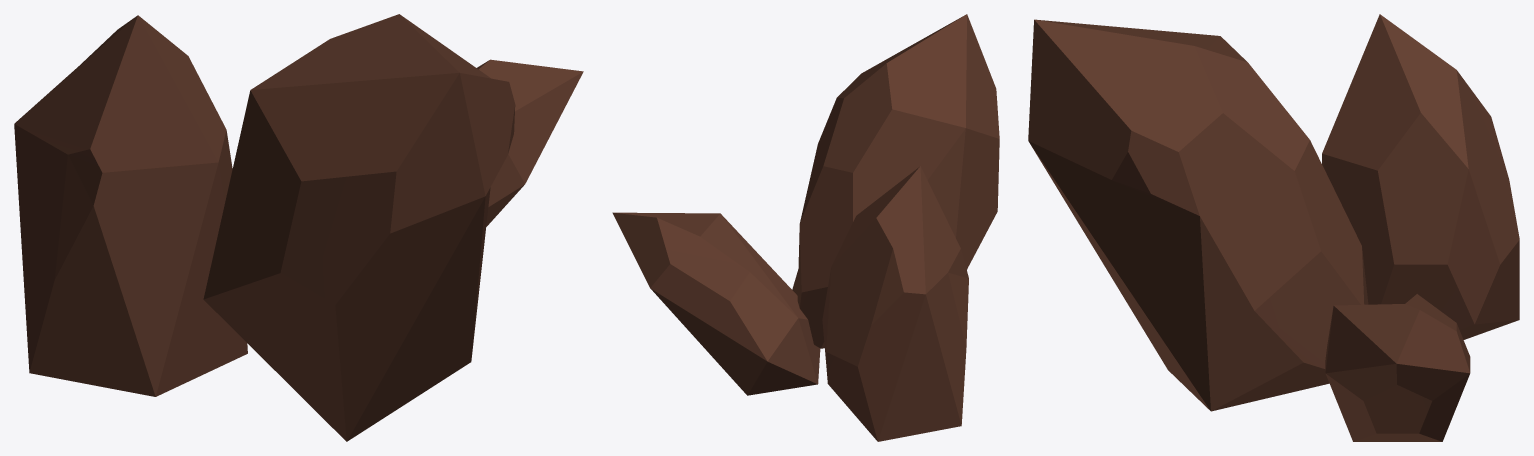
File: IronRock.glb
3 views of the same model, side by side, from view 1: azimuth 30°, elevation 25°; view 2: azimuth 150°, elevation 25°; view 3: azimuth 270°, elevation 25° (orthographic). The views are drawn at different scales.
Parts seen in each view (by area): view 1: Icosphere.002; view 2: Icosphere.002; view 3: Icosphere.002.
Part boxes in pixels (box(x1,y1,x2,y2)): Icosphere.002: box(14, 14, 583, 441); Icosphere.002: box(612, 14, 999, 441); Icosphere.002: box(1028, 14, 1519, 441).
Bounding box in the file's own units: 1.4 × 1.1 × 1.25.
